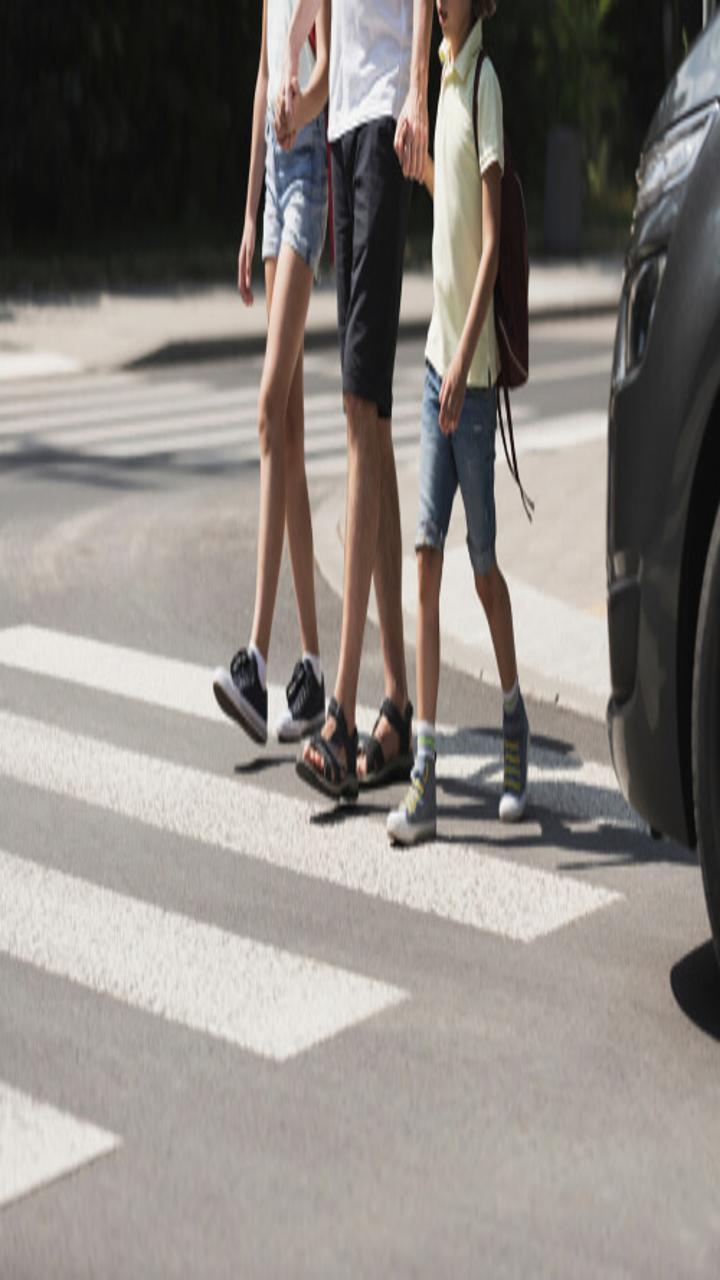pedestrian: (381, 1, 540, 843), (295, 1, 438, 808), (216, 1, 327, 745)
